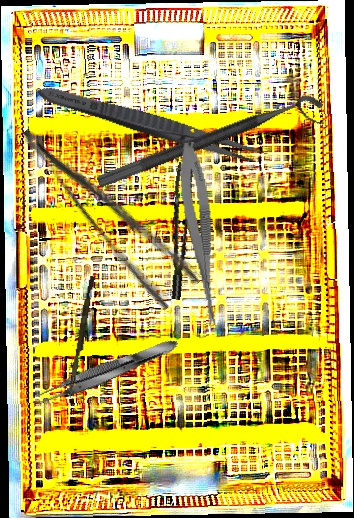Dressing Forceps: (18, 102, 203, 314), (33, 80, 271, 169)
Fixation Ring: (95, 89, 330, 208)
Micro Scissor: (172, 140, 231, 334)
Pusher: (67, 275, 96, 399)
Tissue Forceps: (34, 333, 182, 410), (153, 161, 206, 301)
